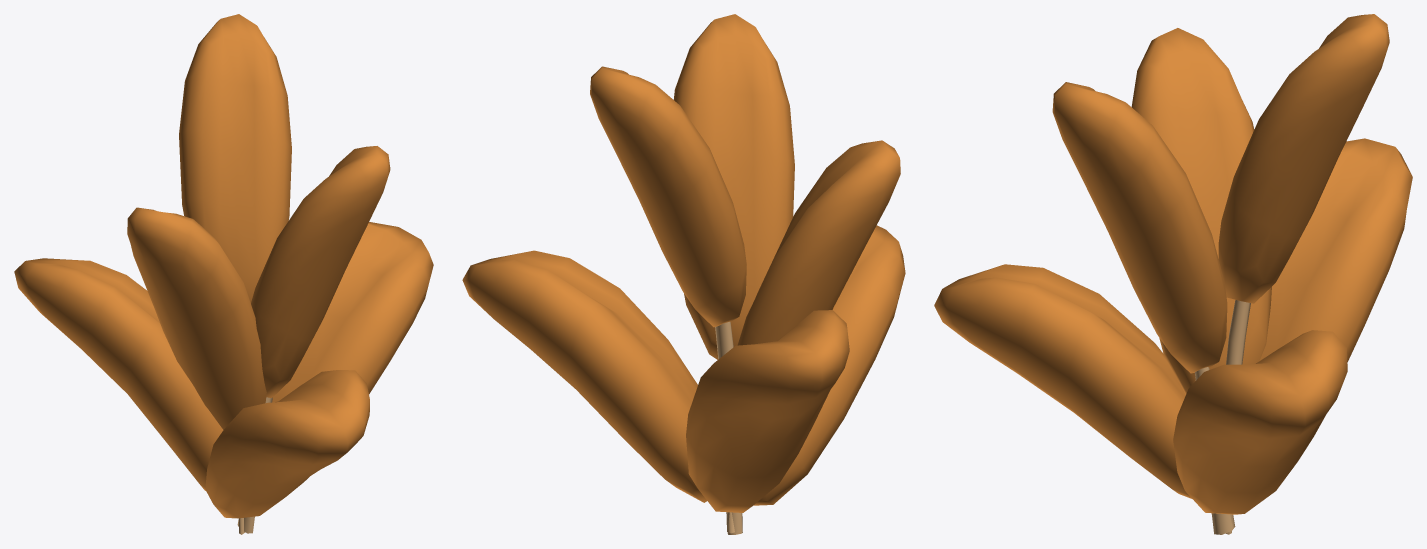
The model's file is Herb_B_02.fbx.
The picture shows the model from 3 angles, left to right: view 1: azimuth 30°, elevation 25°; view 2: azimuth 150°, elevation 25°; view 3: azimuth 270°, elevation 25°; orthographic projection. The views are drawn at different scales.
Parts seen in each view (by area): view 1: Herb_B_02_LOD0; view 2: Herb_B_02_LOD0; view 3: Herb_B_02_LOD0.
Part boxes in pixels (x1=…): Herb_B_02_LOD0: x1=14, y1=14, x2=433, y2=534; Herb_B_02_LOD0: x1=462, y1=14, x2=905, y2=534; Herb_B_02_LOD0: x1=934, y1=14, x2=1412, y2=534.
Size of what is drawn, in the model's own units: 374 by 440 by 352.
